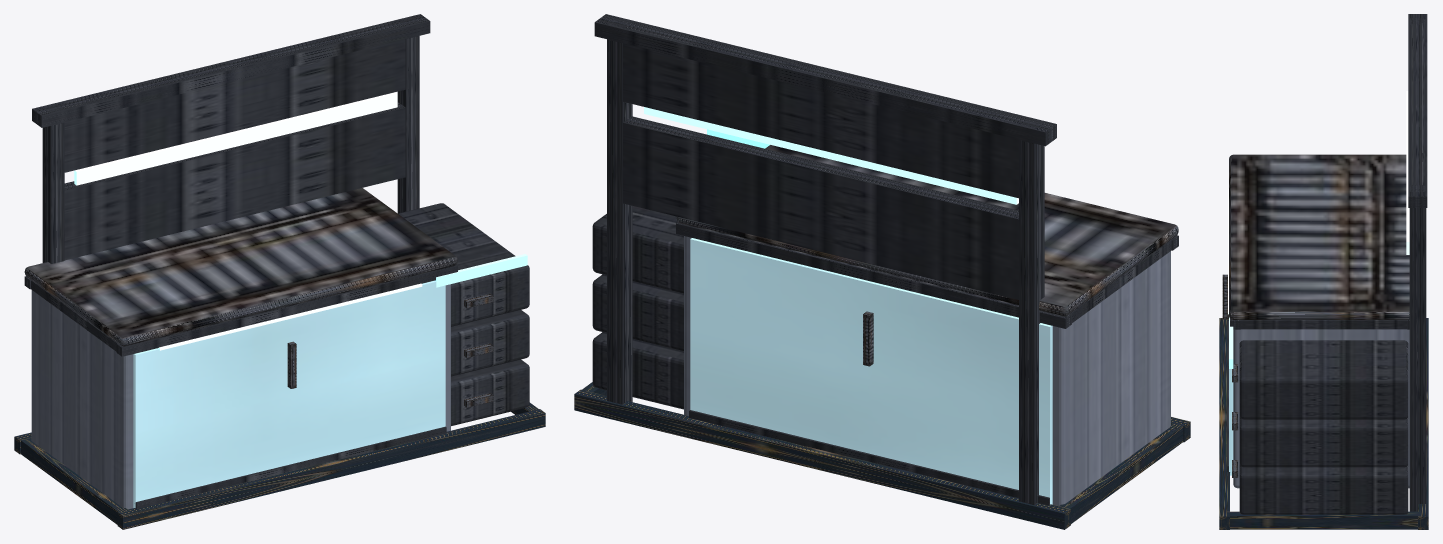
File: med_medcab.glb
3 views of the same model, side by side, from view 1: azimuth 30°, elevation 25°; view 2: azimuth 150°, elevation 25°; view 3: azimuth 270°, elevation 25° (orthographic). The views are drawn at different scales.
Parts seen in each view (by area): view 1: sight_shell, door0, top, body, shelltoe0, drawer2, sightglow, drawer0, drawer1, shellrim0, frame0, shelltoes0 (+3 smaller); view 2: sight_shell, door2, body, top, shelltoe2, drawer2, shellrim2, drawer0, drawer1, frame2, sightglow, shelltoes0 (+1 smaller); view 3: top, drawer2, sight_shell, drawer1, drawer0, body, shelltoes2, shelltoe0, shellrims2, shelltoe2, sightglow, door0 (+2 smaller).
Part boxes in pixels (x1,y1,x2,y2): sight_shell: (32,14,430,263); door0: (133,280,445,507); top: (24,188,457,346); body: (31,284,450,509); shelltoe0: (117,409,545,529); drawer2: (398,203,529,326); sightglow: (74,92,397,185); drawer0: (451,359,529,425); drawer1: (451,310,529,376); shellrim0: (116,265,457,356); frame0: (135,426,446,508); shelltoes0: (21,437,129,524); sight_shell: (594,14,1056,504); door2: (690,238,1052,504); body: (684,236,1170,505); top: (676,145,1178,316); shelltoe2: (574,389,1070,529); drawer2: (592,206,683,293); shellrim2: (676,222,1071,328); drawer0: (592,332,683,409); drawer1: (592,274,683,351); frame2: (689,410,1049,505); sightglow: (644,107,1018,204); shelltoes0: (1059,423,1183,523); top: (1229,154,1409,319); drawer2: (1239,340,1408,419); sight_shell: (1408,14,1427,511); drawer1: (1239,416,1408,467); drawer0: (1239,464,1408,514); body: (1233,329,1409,488); shelltoes2: (1227,511,1420,529); shelltoe0: (1219,318,1229,529); shellrims2: (1240,320,1407,329); shelltoe2: (1418,318,1428,529); sightglow: (1406,91,1409,254); door0: (1229,369,1233,475).
Size of the model in its own units: 2.22 by 1.7 by 0.99.
9 materials, 7 textured.
